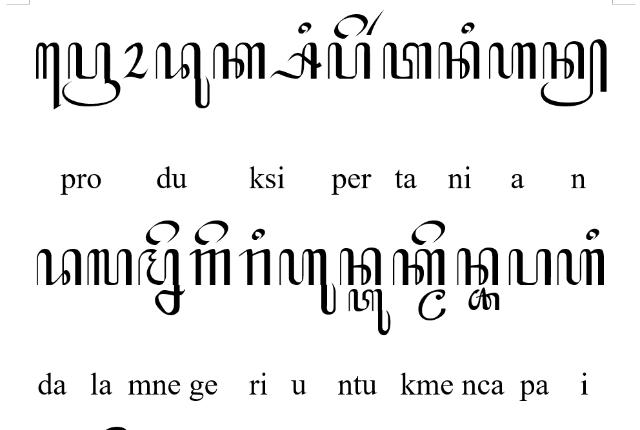-n: (540, 38, 608, 108)
_c: (468, 287, 500, 311)
_m: (418, 289, 446, 321)
_r1: (366, 9, 386, 35)
_s: (268, 41, 322, 79)
d: (36, 248, 82, 286)
du: (156, 42, 210, 108)
e: (410, 219, 446, 245), (334, 13, 368, 39), (146, 220, 180, 246), (194, 220, 228, 246)
e1: (34, 42, 62, 110)
g: (190, 248, 230, 286)
h: (488, 41, 536, 79), (557, 248, 605, 286)
hu: (278, 248, 336, 316)
i: (298, 22, 312, 34), (252, 228, 266, 240), (585, 228, 599, 240), (462, 22, 474, 34)
k: (392, 247, 446, 286), (212, 42, 266, 80)
l: (86, 248, 132, 286)
mn: (138, 248, 186, 316)
n: (438, 40, 480, 80), (339, 247, 381, 285), (456, 248, 498, 286)
o: (122, 41, 150, 79)
p: (508, 248, 552, 286), (328, 42, 370, 80)
pr: (62, 41, 121, 107)
r: (239, 248, 271, 286)
t: (382, 42, 432, 80)
tu: (348, 288, 390, 336)
